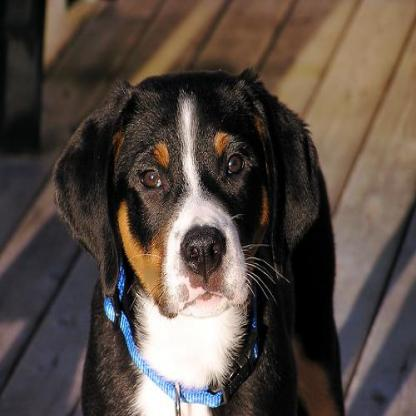Greater_Swiss_Mountain_dog: (47, 66, 337, 414)
